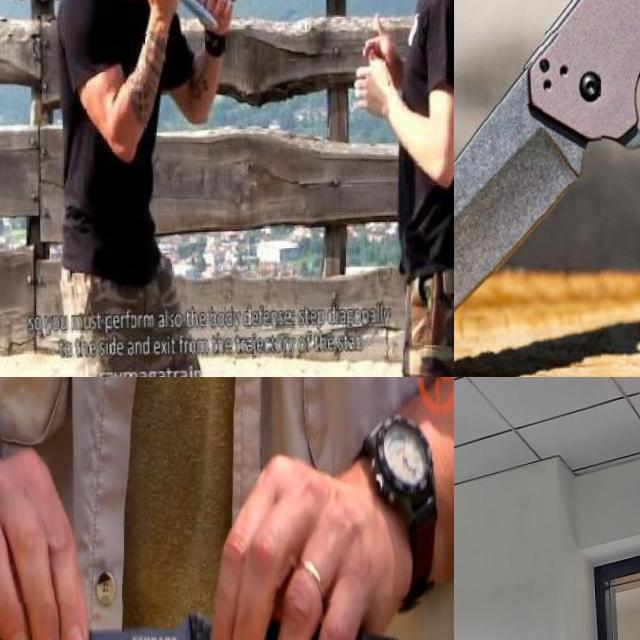-: (454, 30, 603, 377), (0, 597, 424, 640), (134, 0, 222, 44)
gun-knife-thesis - v11 Yolov5 augmented: (454, 504, 478, 640)
